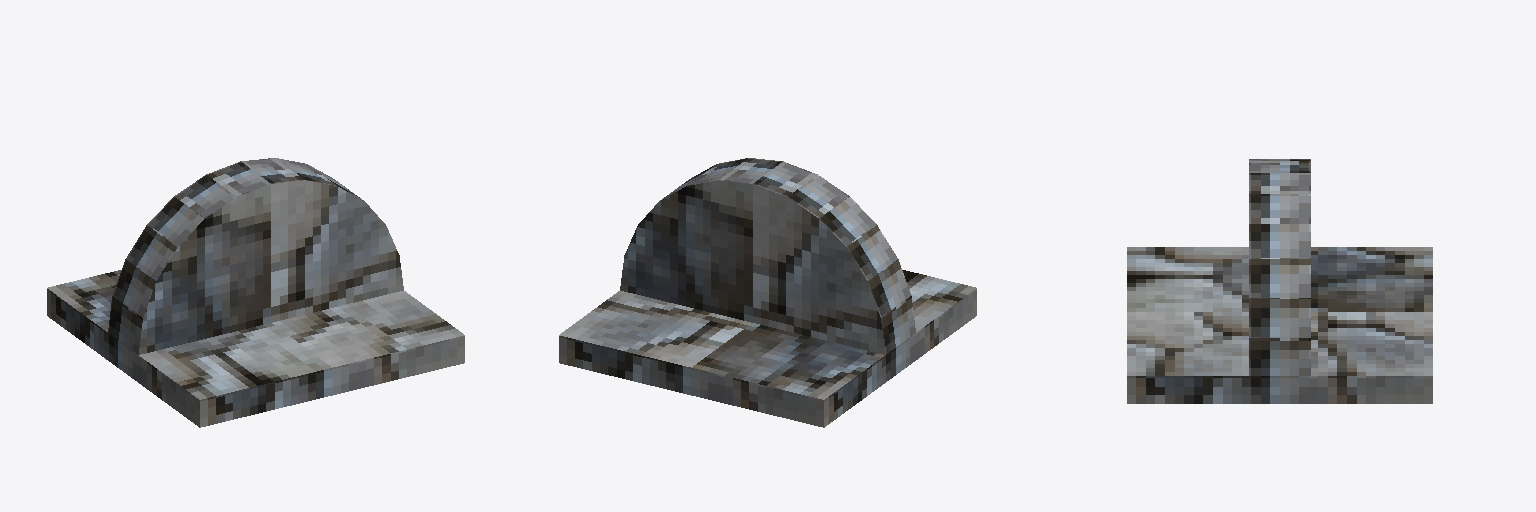
3 views of the same model, side by side, from view 1: azimuth 30°, elevation 25°; view 2: azimuth 150°, elevation 25°; view 3: azimuth 270°, elevation 25° (orthographic).
Visible parts, largest first — view 1: Mesh1 Model; view 2: Mesh1 Model; view 3: Mesh1 Model.
Boxes of the visible parts, x1=… form: Mesh1 Model: x1=47, y1=158, x2=464, y2=427; Mesh1 Model: x1=559, y1=158, x2=976, y2=427; Mesh1 Model: x1=1127, y1=159, x2=1432, y2=403.
Bounding box in the file's own units: 1 × 0.6 × 1.
1 materials, 1 textured.